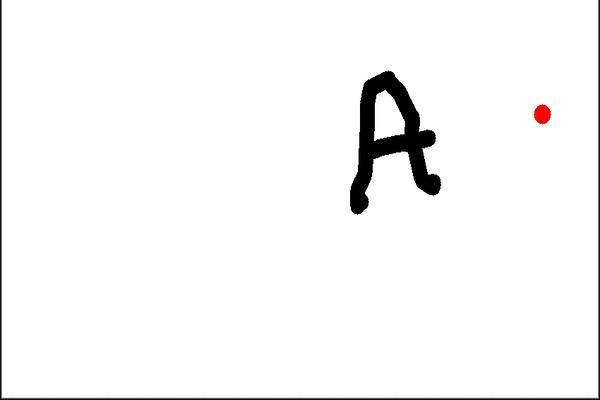A: (336, 63, 450, 217)
